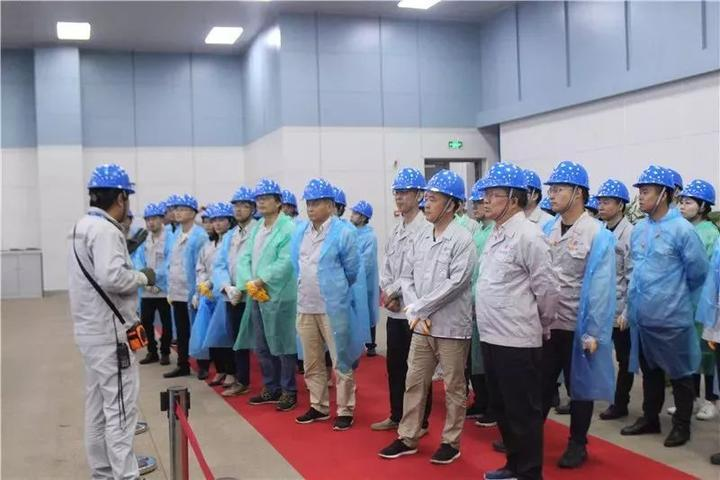helmet: (424, 169, 470, 201), (90, 164, 137, 193), (548, 162, 592, 185), (635, 165, 675, 189), (682, 177, 716, 203), (392, 167, 427, 191), (597, 177, 633, 200), (305, 177, 334, 204), (256, 177, 286, 198), (232, 185, 257, 205), (352, 202, 378, 218), (212, 202, 235, 220), (281, 188, 300, 206), (175, 194, 199, 208), (332, 189, 350, 207), (142, 205, 162, 220)
